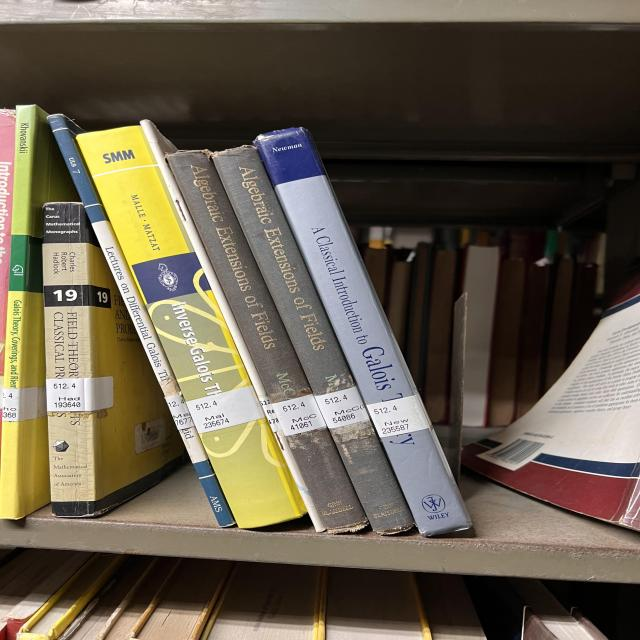Book: (253, 128, 472, 536), (93, 124, 305, 529), (172, 151, 367, 534), (55, 121, 235, 526), (213, 146, 398, 531), (42, 202, 183, 518), (0, 234, 50, 519), (13, 106, 43, 222)
Label: (187, 386, 265, 434), (367, 395, 430, 438), (315, 386, 370, 429), (272, 394, 327, 436), (47, 376, 113, 411), (2, 386, 47, 421), (165, 395, 195, 430), (260, 396, 282, 432)
